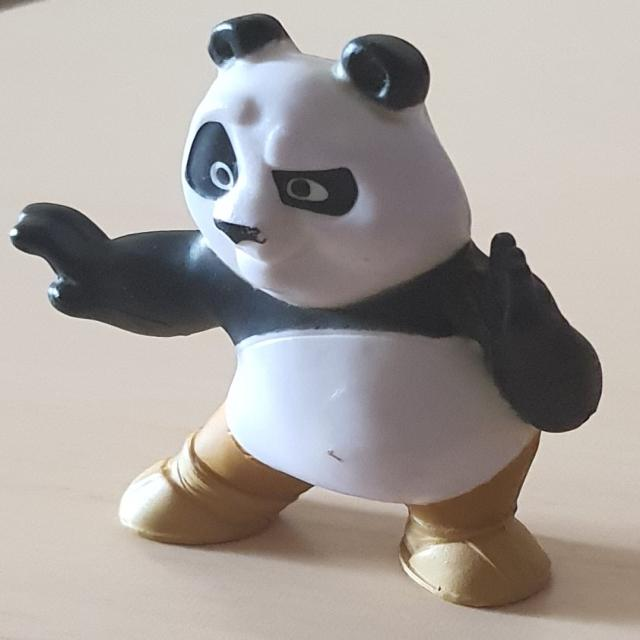Panda: (9, 12, 604, 608)
